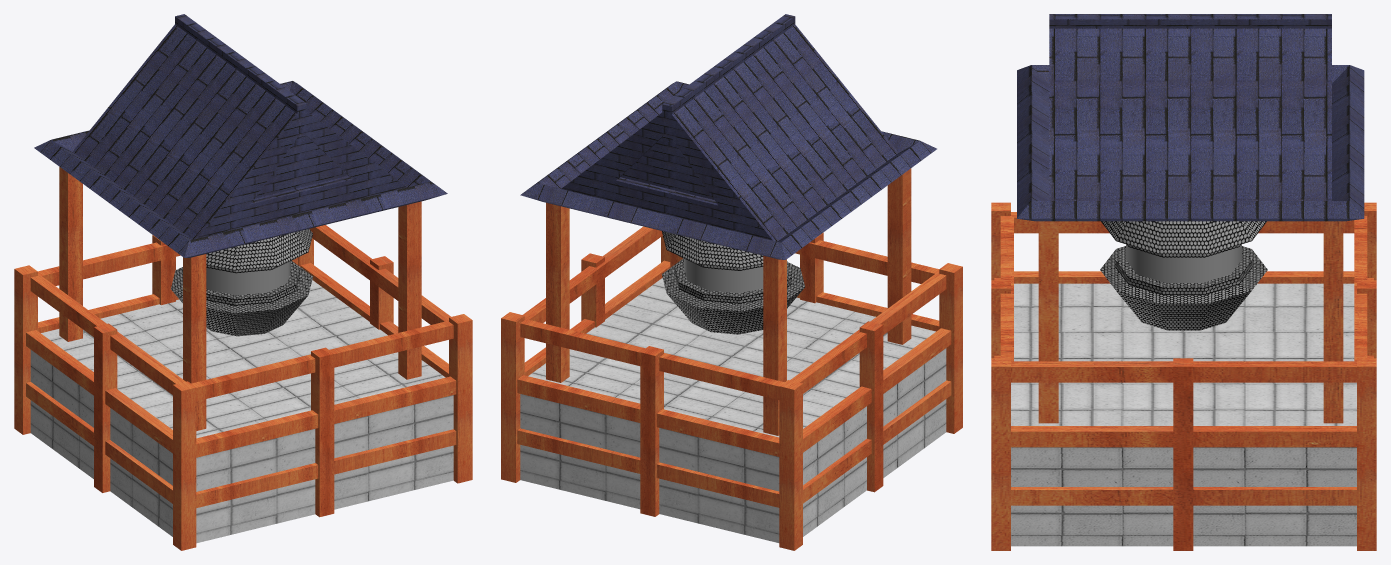
The model's file is TorreSemiBoss_Mapa06.FBX.
The picture shows the model from 3 angles, left to right: view 1: azimuth 30°, elevation 25°; view 2: azimuth 150°, elevation 25°; view 3: azimuth 270°, elevation 25°; orthographic projection. The views are drawn at different scales.
Visible parts, largest first — view 1: Box002, Box012, Box001, Sphere003; view 2: Box002, Box012, Box001, Sphere003; view 3: Box012, Box001, Box002, Sphere003.
Part boxes in pixels (<box>): Box002: <box>14,167,472,550</box>; Box012: <box>34,14,447,257</box>; Box001: <box>30,280,453,543</box>; Sphere003: <box>171,229,312,336</box>; Box002: <box>501,168,962,550</box>; Box012: <box>520,14,936,259</box>; Box001: <box>520,278,946,542</box>; Sphere003: <box>662,231,804,334</box>; Box012: <box>1017,14,1364,221</box>; Box001: <box>1011,283,1356,546</box>; Box002: <box>991,202,1376,550</box>; Sphere003: <box>1100,221,1267,330</box>.
Bounding box in the file's own units: 190 × 245 × 189.
